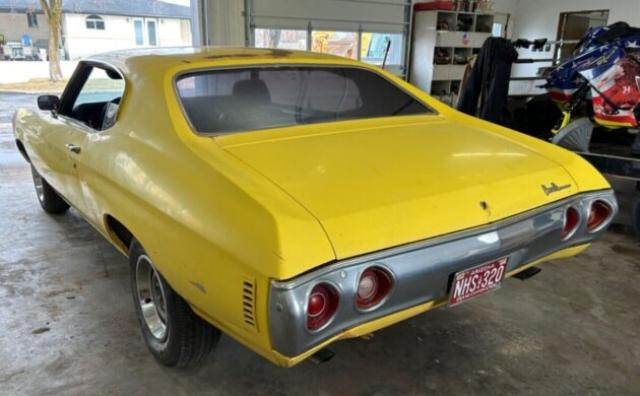chevelle-1972: (12, 47, 618, 366)
